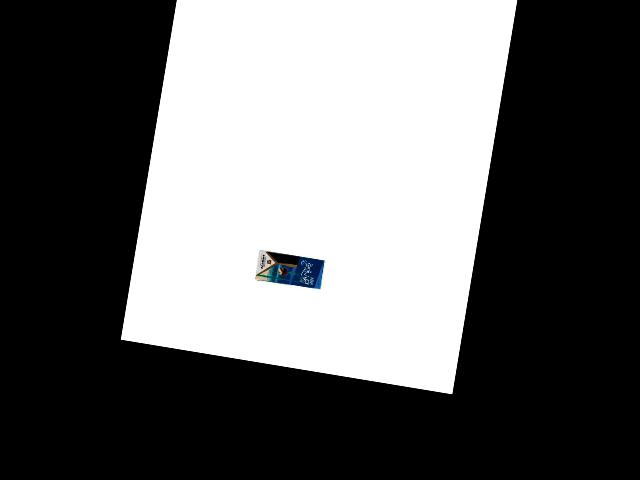chocolate: (252, 247, 326, 291)
